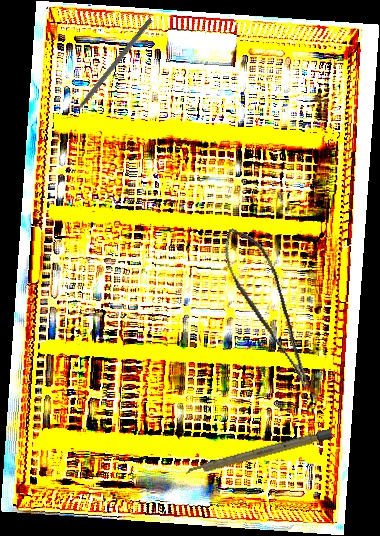Chopper: (59, 13, 154, 125)
Micro Scissor: (214, 219, 317, 399)
Scalpel Handle: (184, 428, 333, 478)
